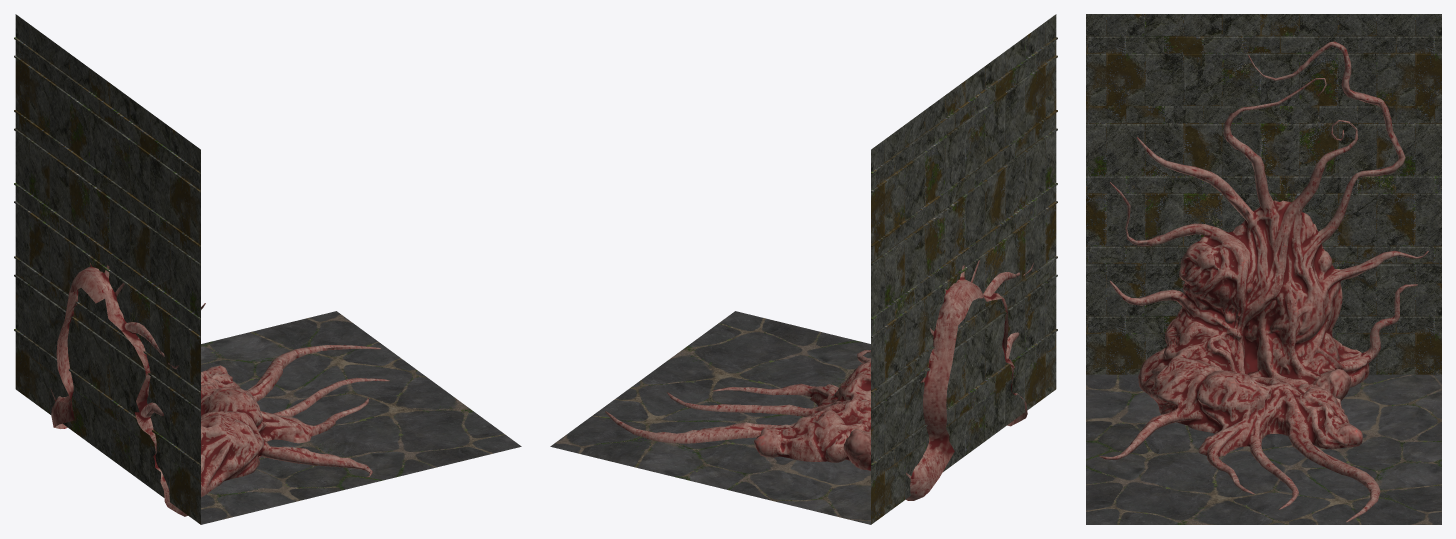
File: flesh_blob.glb
3 renders of one model, left to right at view 1: azimuth 30°, elevation 25°; view 2: azimuth 150°, elevation 25°; view 3: azimuth 270°, elevation 25°, orthographic. The views are drawn at different scales.
Visible parts, largest first — view 1: Plane.001_2, Plane_0, Organic_low_1; view 2: Plane.001_2, Plane_0, Organic_low_1; view 3: Plane.001_2, Organic_low_1, Plane_0.
Boxes of the visible parts, x1,y1,x2,y2 form: Plane.001_2: (14,14,200,524); Plane_0: (201,311,521,524); Organic_low_1: (50,262,389,516); Plane.001_2: (871,14,1057,524); Plane_0: (550,311,870,524); Organic_low_1: (605,260,1033,500); Plane.001_2: (1086,14,1441,374); Organic_low_1: (1098,41,1428,522); Plane_0: (1086,374,1441,524).
Size of the model in its own units: 5.82 by 6.44 by 5.5.
3 materials, 3 textured.
